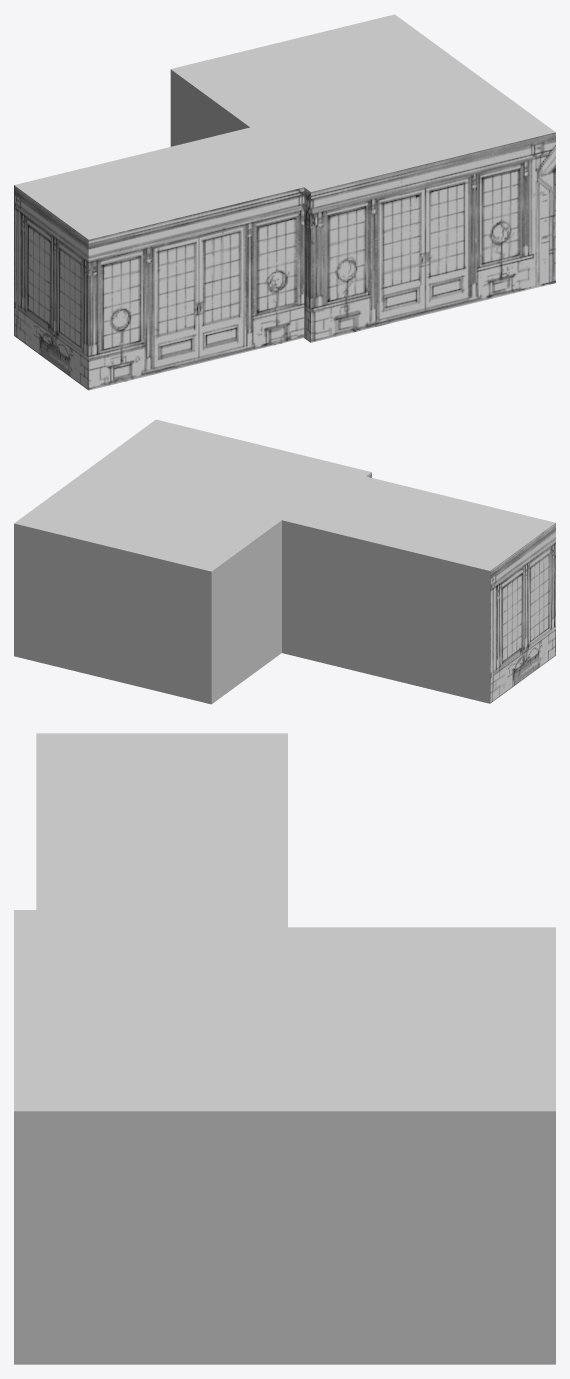
File: Lawrence__TrueVision__MainBuildingModel__Proposed__MeshModel__.glb
The picture shows the model from 3 angles, top to bottom: view 1: azimuth 30°, elevation 25°; view 2: azimuth 150°, elevation 25°; view 3: azimuth 270°, elevation 25°; orthographic projection. The views are drawn at different scales.
Parts seen in each view (by area): view 1: 20__ProposedBuilding::MAT000E__ValeDrawing, 20__ProposedBuilding::Default; view 2: 20__ProposedBuilding::Default, 20__ProposedBuilding::MAT000E__ValeDrawing; view 3: 20__ProposedBuilding::Default.
Boxes of the visible parts, x1,y1,x2,y2 form: 20__ProposedBuilding::MAT000E__ValeDrawing: (14,132,555,390); 20__ProposedBuilding::Default: (14,14,555,239); 20__ProposedBuilding::Default: (14,419,555,704); 20__ProposedBuilding::MAT000E__ValeDrawing: (366,472,555,703); 20__ProposedBuilding::Default: (14,733,555,1364).
Bounding box in the file's own units: 8.58 × 2.69 × 5.2.
2 materials, 1 textured.
